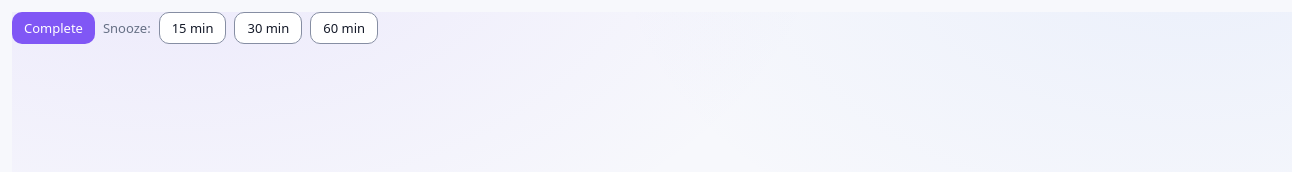
Test case: habit reminder actions › snoozes once, and explains a snooze into quiet hours
Click the button with aria-label "Snooze the reminder for Morning walk by 60 minutes" at (344, 28), box [310, 12, 378, 44]
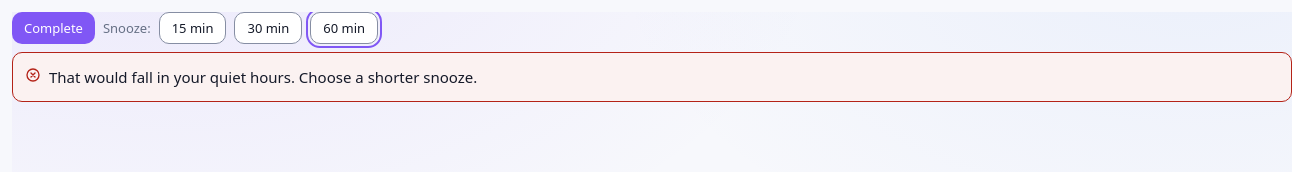
Check: the text "That would fall in your quiet hours. Choose a shorter snooze." is shown, box [49, 65, 477, 89]
Click the button with aria-label "Snooze the reminder for Morning walk by 15 minutes" at (193, 28), box [159, 12, 226, 44]
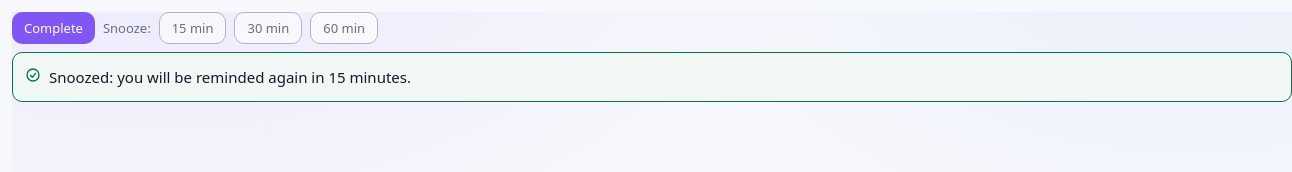
Check: the text "Snoozed: you will be reminded again in 15 minutes." is shown, box [49, 65, 411, 89]
Check: the button with aria-label "Snooze the reminder for Morning walk by 30 minutes" is disabled, box [234, 12, 302, 44]
